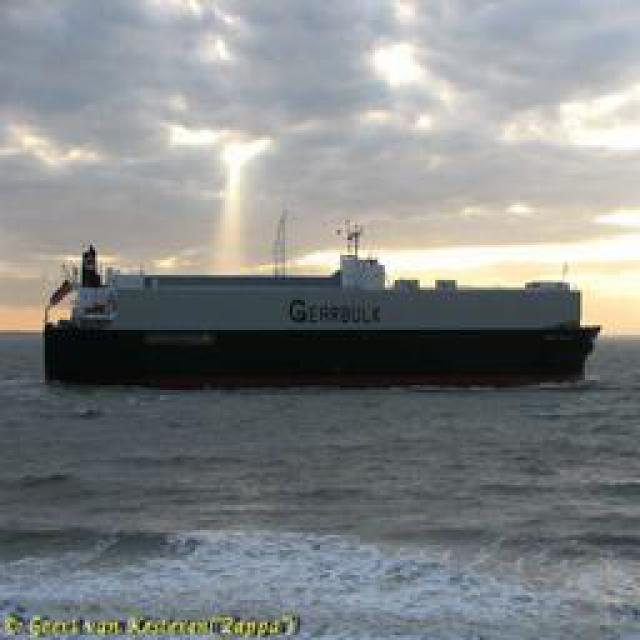Ship: (46, 251, 601, 374)
